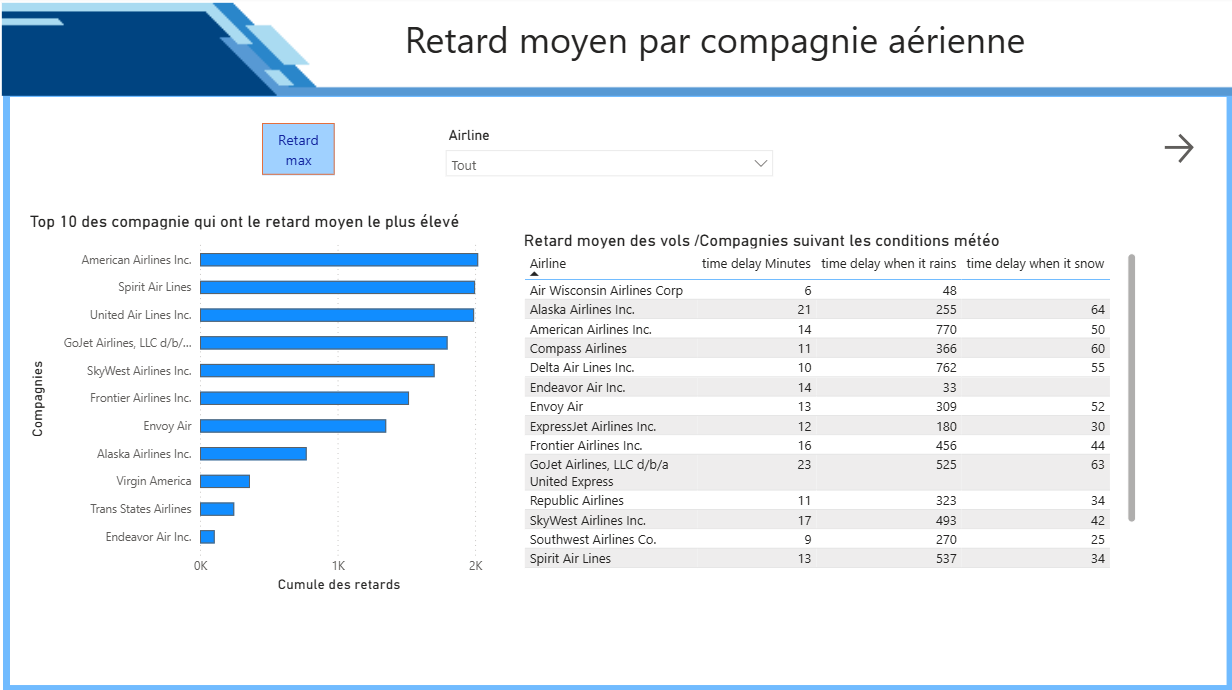

Layout of this report page (visuals, bound fields, positions):
{"tool":"powerbi","page":{"name":"Retard moyen par compagnie aérienne","canvas":[1280,720],"ordinal":0},"visuals":[{"type":"group","id":"g1","title":"Groupe 1","box":[0,0,1600,720.5],"z":0},{"type":"shape","box":[6.4,91.8,1273.6,628.2],"z":0,"group":"g1"},{"type":"image","box":[0,0,1600,108.9],"z":1000,"group":"g1"},{"type":"slicer","fields":{"Values":["flights top_delay_during_snow.Airline"]},"box":[453.2,130.1,358.2,55.7],"z":1000},{"type":"shape","box":[13.6,103.6,1256.4,607.3],"z":2000,"group":"g1"},{"type":"clusteredBarChart","title":"Top 10 des compagnie qui ont le retard moyen le plus élevé","fields":{"Category":["flights average_delay_by_company.Airline"],"Y":["Mesures.cumule_des_retards_AVG"]},"box":[29,221,488.2,398.5],"z":2000},{"type":"textbox","box":[416,12.4,667.9,66.1],"z":4000},{"type":"tableEx","title":"Retard moyen des vols /Compagnies suivant les conditions météo ","fields":{"Values":["flights average_delay_by_company.Airline","flights average_delay_by_company.avg(ArrDelayMinutes)","Avg(flights top_delay_by_weather.max(ArrDelayMinutes))","Avg(flights top_delay_during_snow.ArrDelayMinutes)"]},"box":[538.8,240.5,642.1,358.2],"z":5000},{"type":"actionButton","box":[273.5,130.1,75.4,53.7],"z":6000},{"type":"actionButton","box":[1199.5,136.3,49.5,40.3],"z":7000}]}

Visuals, with their boxes in screenshot pixels (x1, y1, x2, y2), scaled from the page's 1280x720 canvas onto the 1232x690 screenshot:
"Groupe 1" group: BBox(0, 0, 1231, 689)
shape: BBox(6, 88, 1231, 689)
image: BBox(0, 0, 1231, 104)
slicer - flights top_delay_during_snow.Airline: BBox(436, 125, 781, 178)
shape: BBox(13, 99, 1222, 681)
"Top 10 des compagnie qui ont le retard moyen le plus élevé" clusteredBarChart: BBox(28, 212, 498, 594)
textbox: BBox(400, 12, 1043, 75)
"Retard moyen des vols /Compagnies suivant les conditions météo " tableEx: BBox(519, 230, 1137, 574)
actionButton: BBox(263, 125, 336, 176)
actionButton: BBox(1155, 131, 1202, 169)
